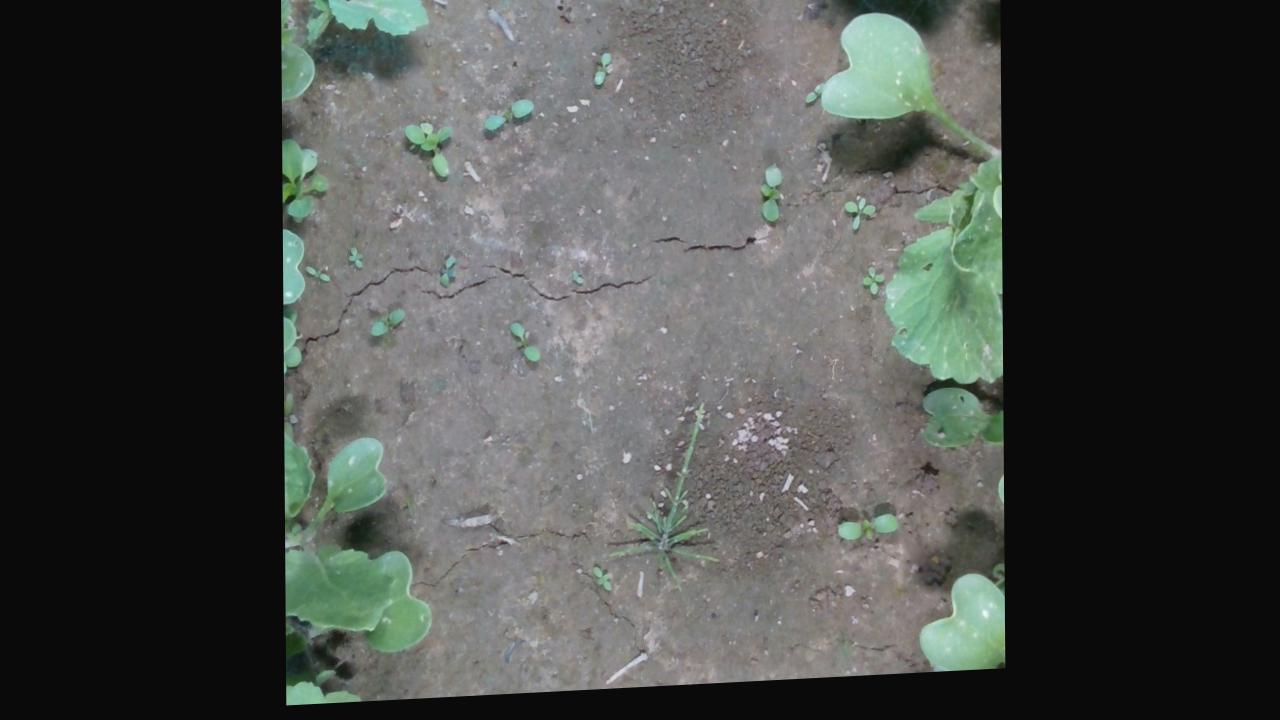weed: (834, 520, 900, 551), (483, 103, 536, 135), (507, 323, 541, 367), (842, 202, 879, 241), (762, 169, 785, 230), (369, 309, 407, 340), (593, 56, 613, 93), (862, 273, 885, 304), (439, 256, 458, 291), (591, 570, 614, 598), (305, 267, 332, 286), (348, 248, 366, 272)
